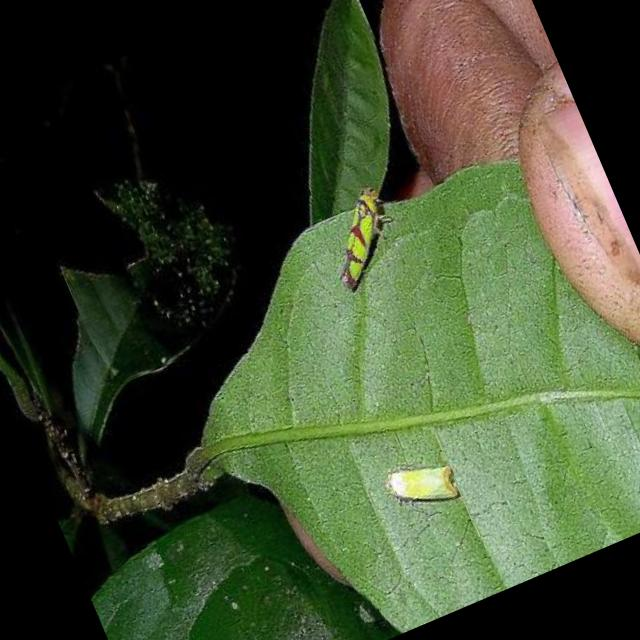green-leafhopper: (313, 182, 412, 295), (378, 444, 464, 522)
